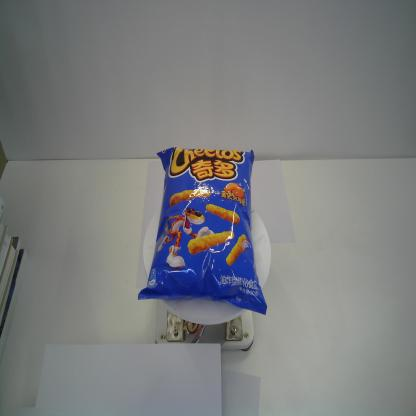Puffed Food: (136, 145, 269, 318)
